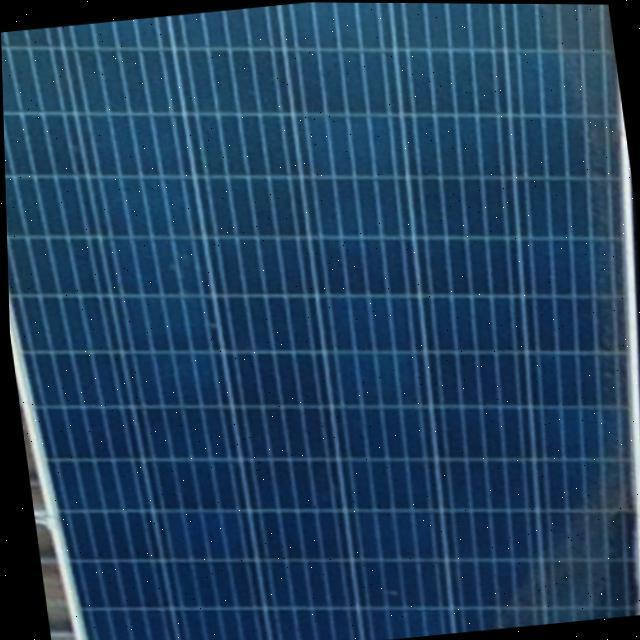Surface Contaminant: (524, 3, 628, 457), (424, 437, 640, 633)
